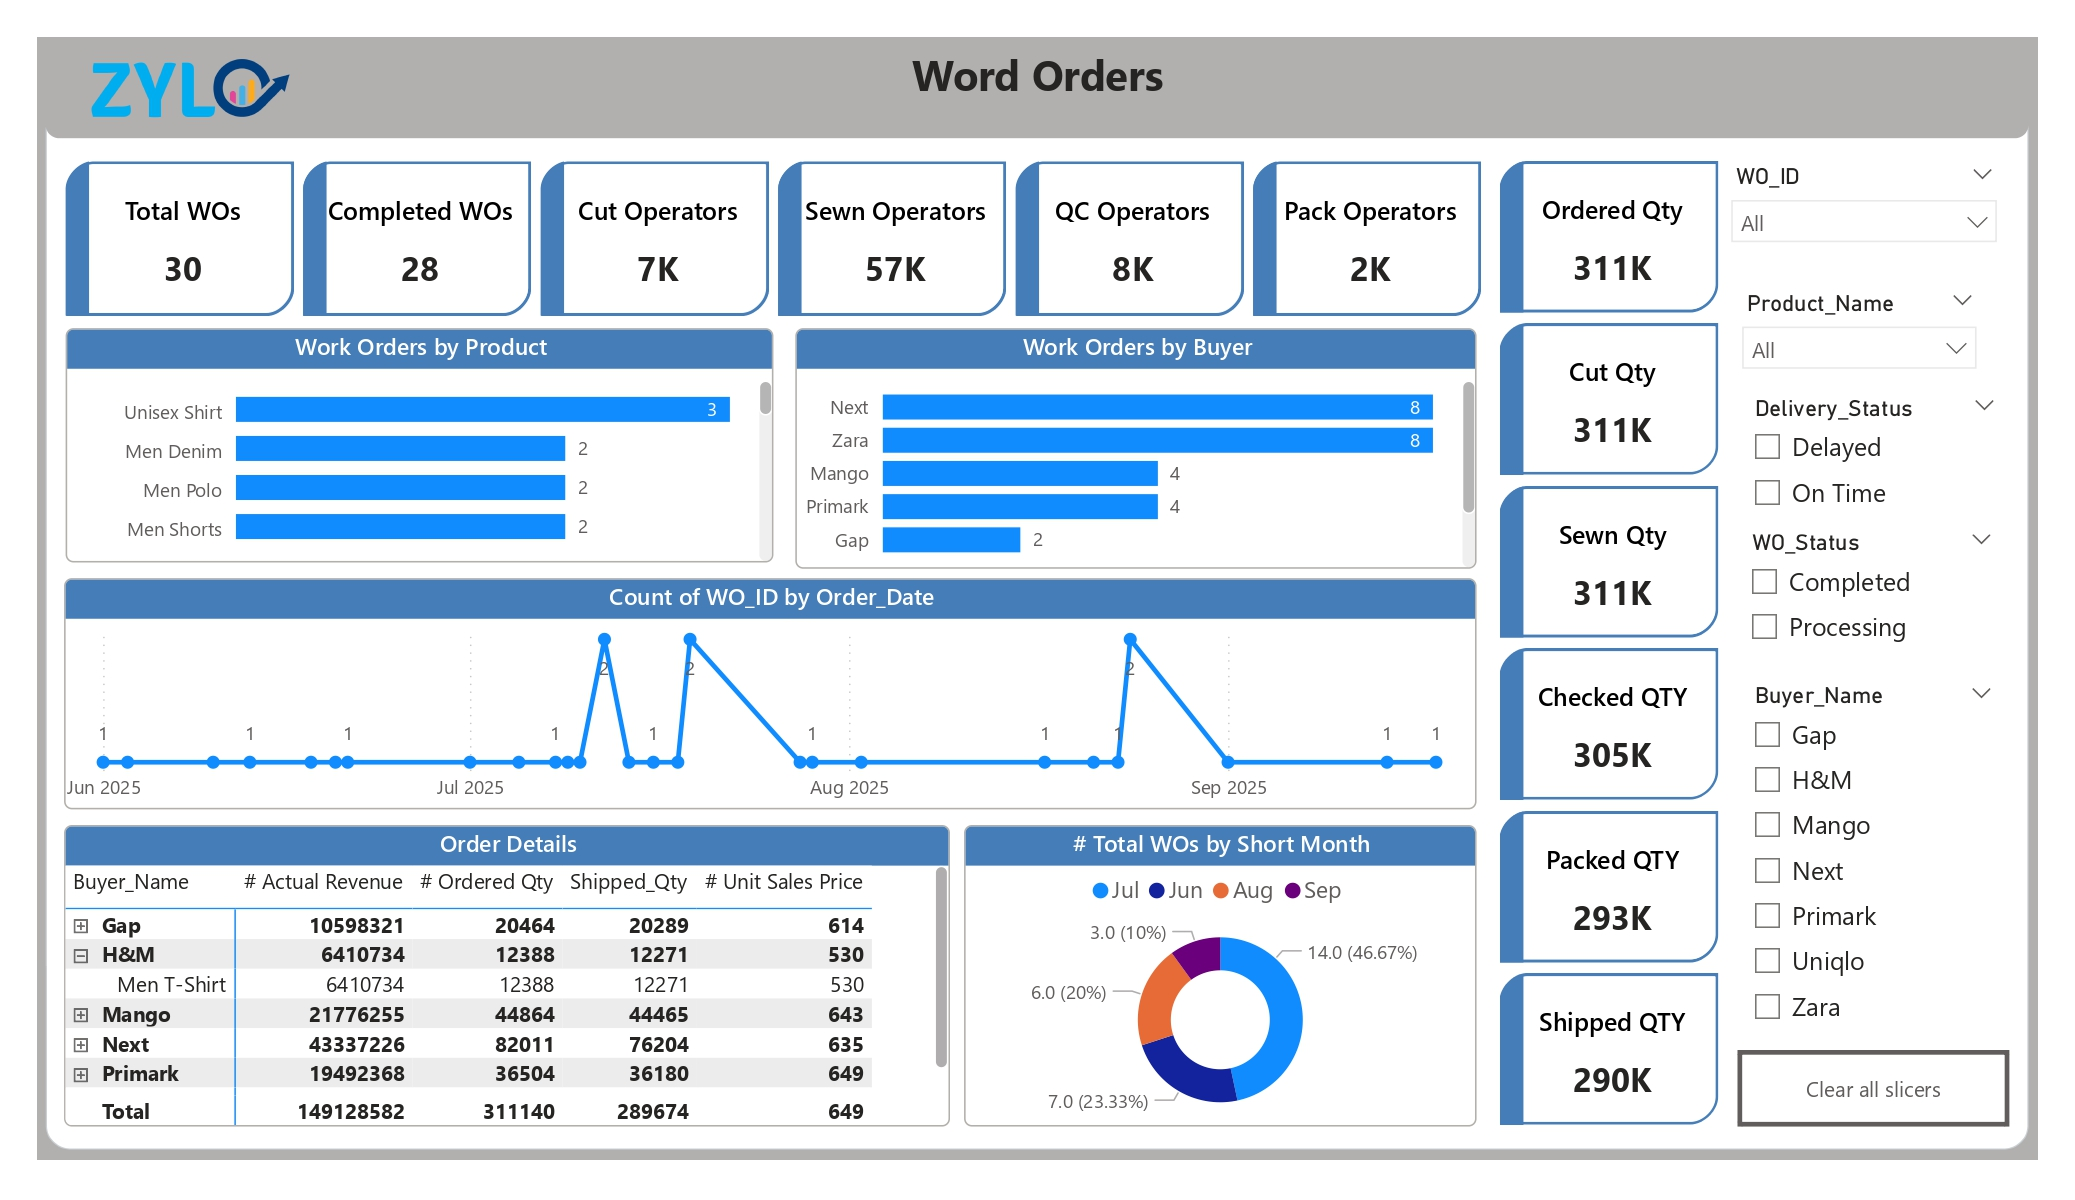

The page's visual inventory and layout, read from the dashboard file:
{"tool":"powerbi","page":{"name":"1. Word Orders","canvas":[1280,720],"ordinal":0},"visuals":[{"type":"pivotTable","title":"Order Details","fields":{"Values":["_Measures_5_Cost&Profit.# Actual Revenue","_Measures_0_Global.# Total Order Quantity","Fact_Process.Shipped_Quantity","_Measures_5_Cost&Profit.# Unit Sales Price"],"Rows":["Dim_Buyer.Buyer_Name","Fact_WorkOrders.Product_Name"]},"box":[17.1,504.3,567.1,192.9],"z":0},{"type":"slicer","fields":{"Values":["Fact_WorkOrders.WO_Status"]},"box":[1084.5,310.3,179,88.5],"z":1000},{"type":"slicer","fields":{"Values":["Fact_WorkOrders.Delivery_Status"]},"box":[1085.5,224.3,179.1,94.1],"z":2000},{"type":"slicer","fields":{"Values":["Fact_WorkOrders.WO_ID"]},"box":[1073.6,76.4,190,73.6],"z":3000},{"type":"lineChart","fields":{"Y":["Fact_WorkOrders.WO_ID"],"Category":["Fact_WorkOrders.Order_Date"]},"box":[17.1,345.7,904.3,148.6],"z":4000},{"type":"slicer","fields":{"Values":["Dim_Product.Product_Name"]},"box":[1081,157.4,170.1,66.9],"z":5000},{"type":"cardVisual","fields":{"Data":["_Measures_0_Global.# Total Order Quantity","_Measures_2_WO.# Cut Quantity","_Measures_2_WO.# Sewn Quantity","_Measures_2_WO.# Checked Quantity","_Measures_2_WO.# Packed Quantity","_Measures_0_Global.# Total Shipped Quantity"]},"box":[930.8,73.9,149.8,630.3],"z":6000},{"type":"actionButton","box":[1088.2,647.7,173.7,49.8],"z":7000},{"type":"slicer","fields":{"Values":["Dim_Buyer.Buyer_Name"]},"box":[1085.5,408,177.3,231.6],"z":8000},{"type":"clusteredBarChart","title":"Work Orders by Product","fields":{"Category":["Dim_Product.Product_Name"],"Y":["_Measures_0_Global.# Total WOs"]},"box":[17.5,186.2,453.8,150],"z":9000},{"type":"clusteredBarChart","title":"Work Orders by Buyer","fields":{"Y":["_Measures_0_Global.# Total WOs"],"Category":["Dim_Buyer.Buyer_Name"]},"box":[485.3,185.8,435.7,154.7],"z":10000},{"type":"donutChart","fields":{"Category":["Fact_WorkOrders.Short Month"],"Y":["_Measures_0_Global.# Total WOs"]},"box":[592.9,504.3,328.6,192.9],"z":11000},{"type":"cardVisual","fields":{"Data":["_Measures_0_Global.# Total WOs","_Measures_2_WO.# Completed WOs","_Measures_2_WO.# Total Cutting Operators","_Measures_2_WO.# Total Sewing Operators","_Measures_2_WO.# Total Quality Operators","_Measures_2_WO.# Total Packing Operators"]},"box":[12.6,73.9,918.2,108.9],"z":12000},{"type":"textbox","box":[344.3,0,591.4,60],"z":13000}]}

Visuals, with their boxes on the page's 1280x720 design canvas (x1, y1, x2, y2). These are canvas units, not pixel positions in the 2075x1200 screenshot, which may show the page scaled, cropped or inside an application window:
"Order Details" pivotTable: [left=17, top=504, right=584, bottom=697]
slicer - Fact_WorkOrders.WO_Status: [left=1084, top=310, right=1264, bottom=399]
slicer - Fact_WorkOrders.Delivery_Status: [left=1086, top=224, right=1265, bottom=318]
slicer - Fact_WorkOrders.WO_ID: [left=1074, top=76, right=1264, bottom=150]
lineChart - Fact_WorkOrders.WO_ID x Fact_WorkOrders.Order_Date: [left=17, top=346, right=921, bottom=494]
slicer - Dim_Product.Product_Name: [left=1081, top=157, right=1251, bottom=224]
cardVisual - _Measures_0_Global.# Total Order Quantity x _Measures_2_WO.# Cut Quantity: [left=931, top=74, right=1081, bottom=704]
actionButton: [left=1088, top=648, right=1262, bottom=698]
slicer - Dim_Buyer.Buyer_Name: [left=1086, top=408, right=1263, bottom=640]
"Work Orders by Product" clusteredBarChart: [left=18, top=186, right=471, bottom=336]
"Work Orders by Buyer" clusteredBarChart: [left=485, top=186, right=921, bottom=340]
donutChart - Fact_WorkOrders.Short Month x _Measures_0_Global.# Total WOs: [left=593, top=504, right=922, bottom=697]
cardVisual - _Measures_0_Global.# Total WOs x _Measures_2_WO.# Completed WOs: [left=13, top=74, right=931, bottom=183]
textbox: [left=344, top=0, right=936, bottom=60]
